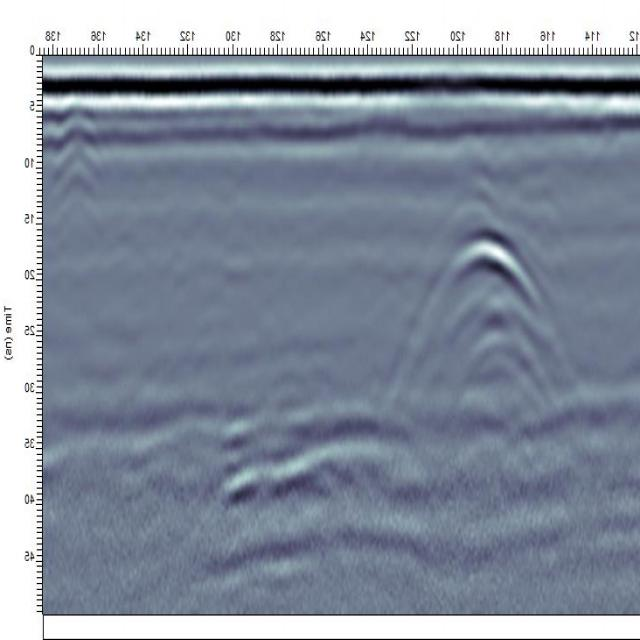hyperbola: (416, 210, 554, 368)
